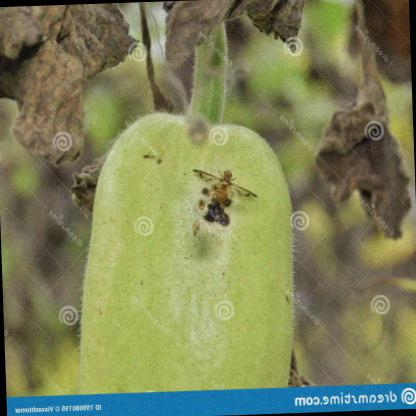fruit fly: (193, 170, 257, 225)
